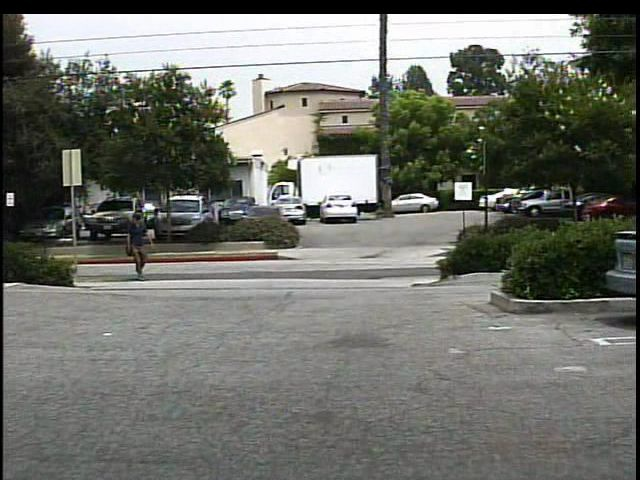person: (122, 209, 155, 282)
